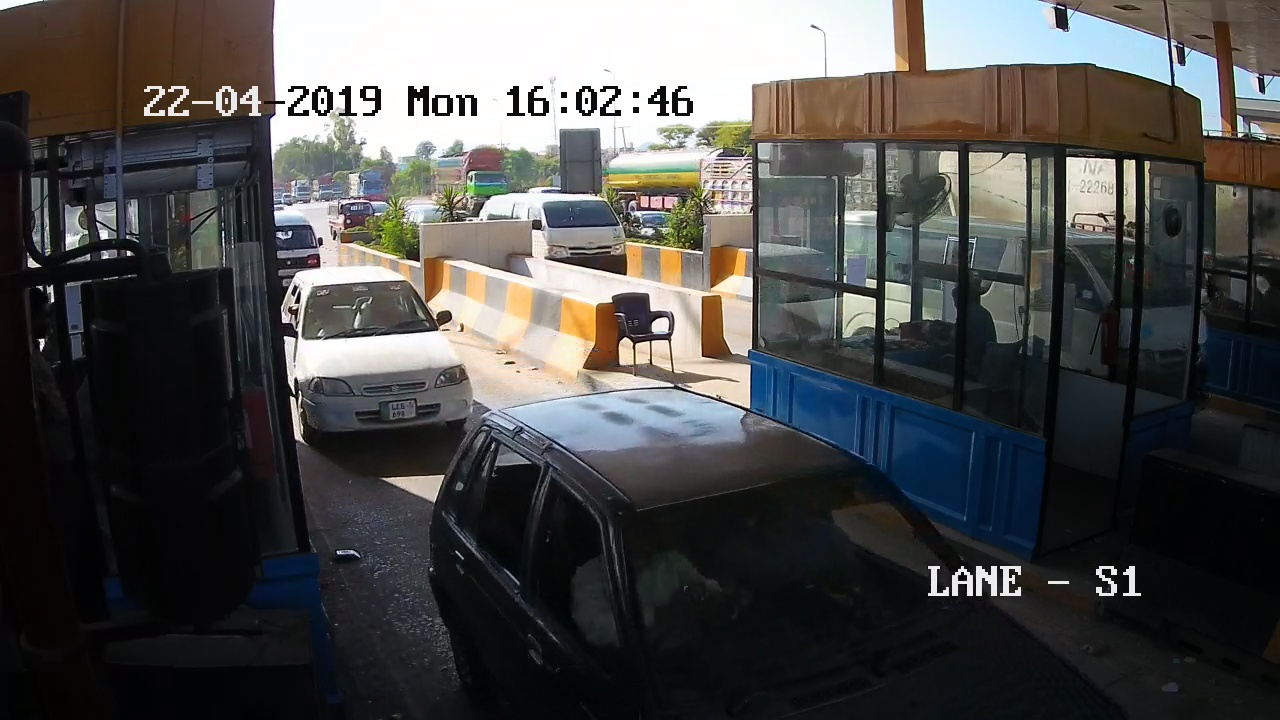car: (436, 439, 920, 720), (284, 276, 462, 420)
